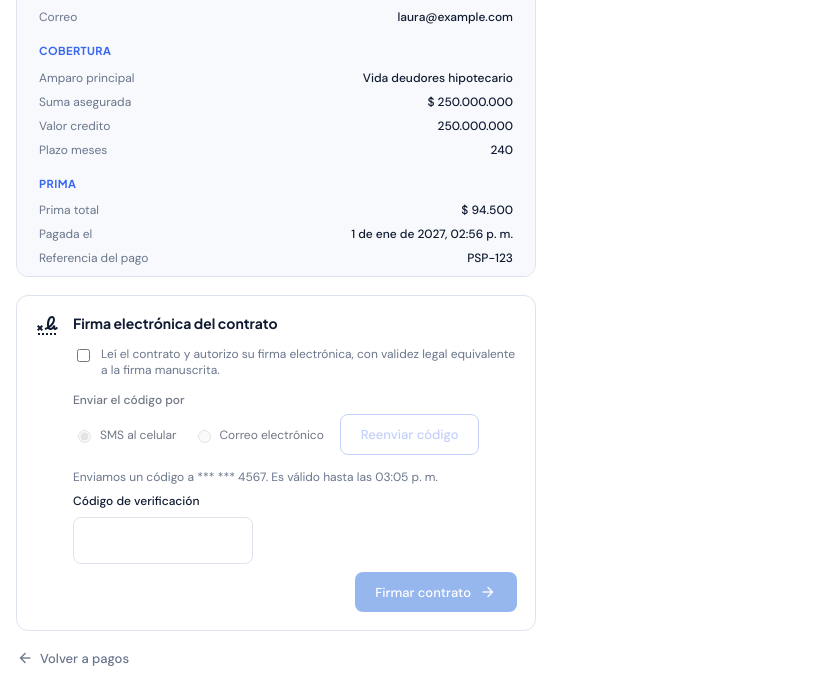
Test: informa los intentos restantes si el código es incorrecto
(page scrolled)
Type "000000" into the field labelled "Código de verificación".
click(163, 540); type("000000")  # box [73,517,253,564]
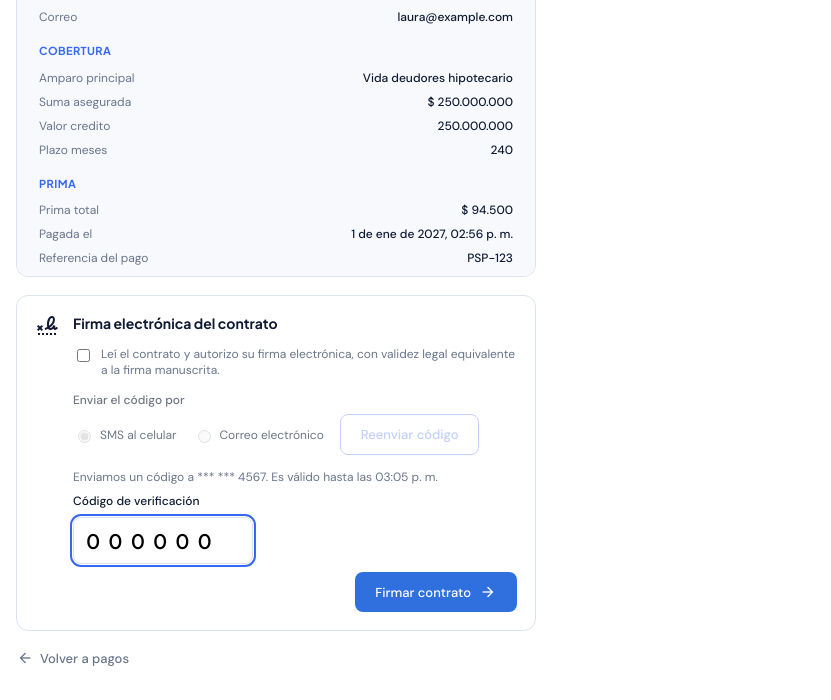
Click the button "Firmar contrato".
click(436, 592)  # box [355,572,517,612]
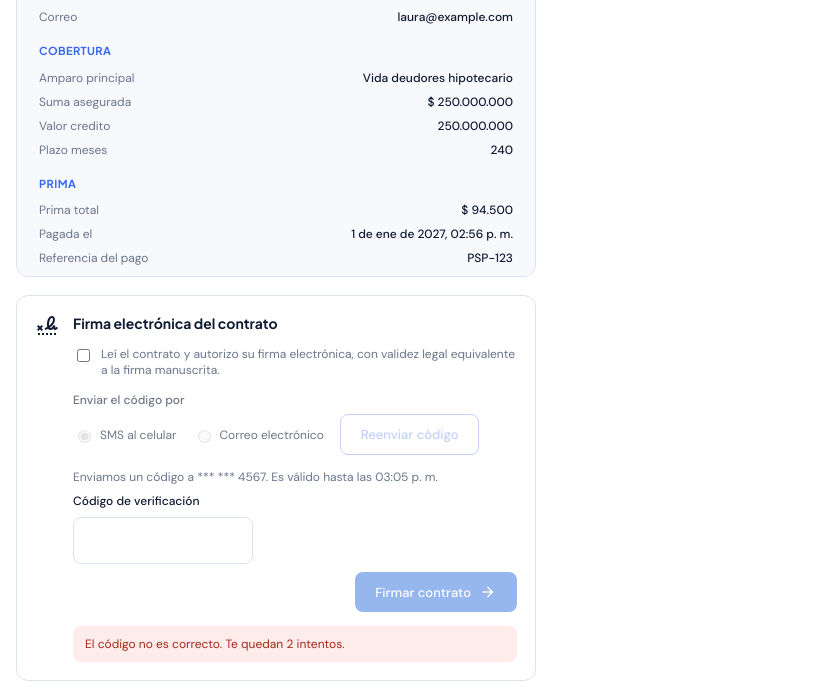
Expected: the message "El código no es correcto. Te quedan 2 intentos." is shown, [73,626,517,662]
Expected: the field labelled "Código de verificación" is empty, [73,517,253,564]
